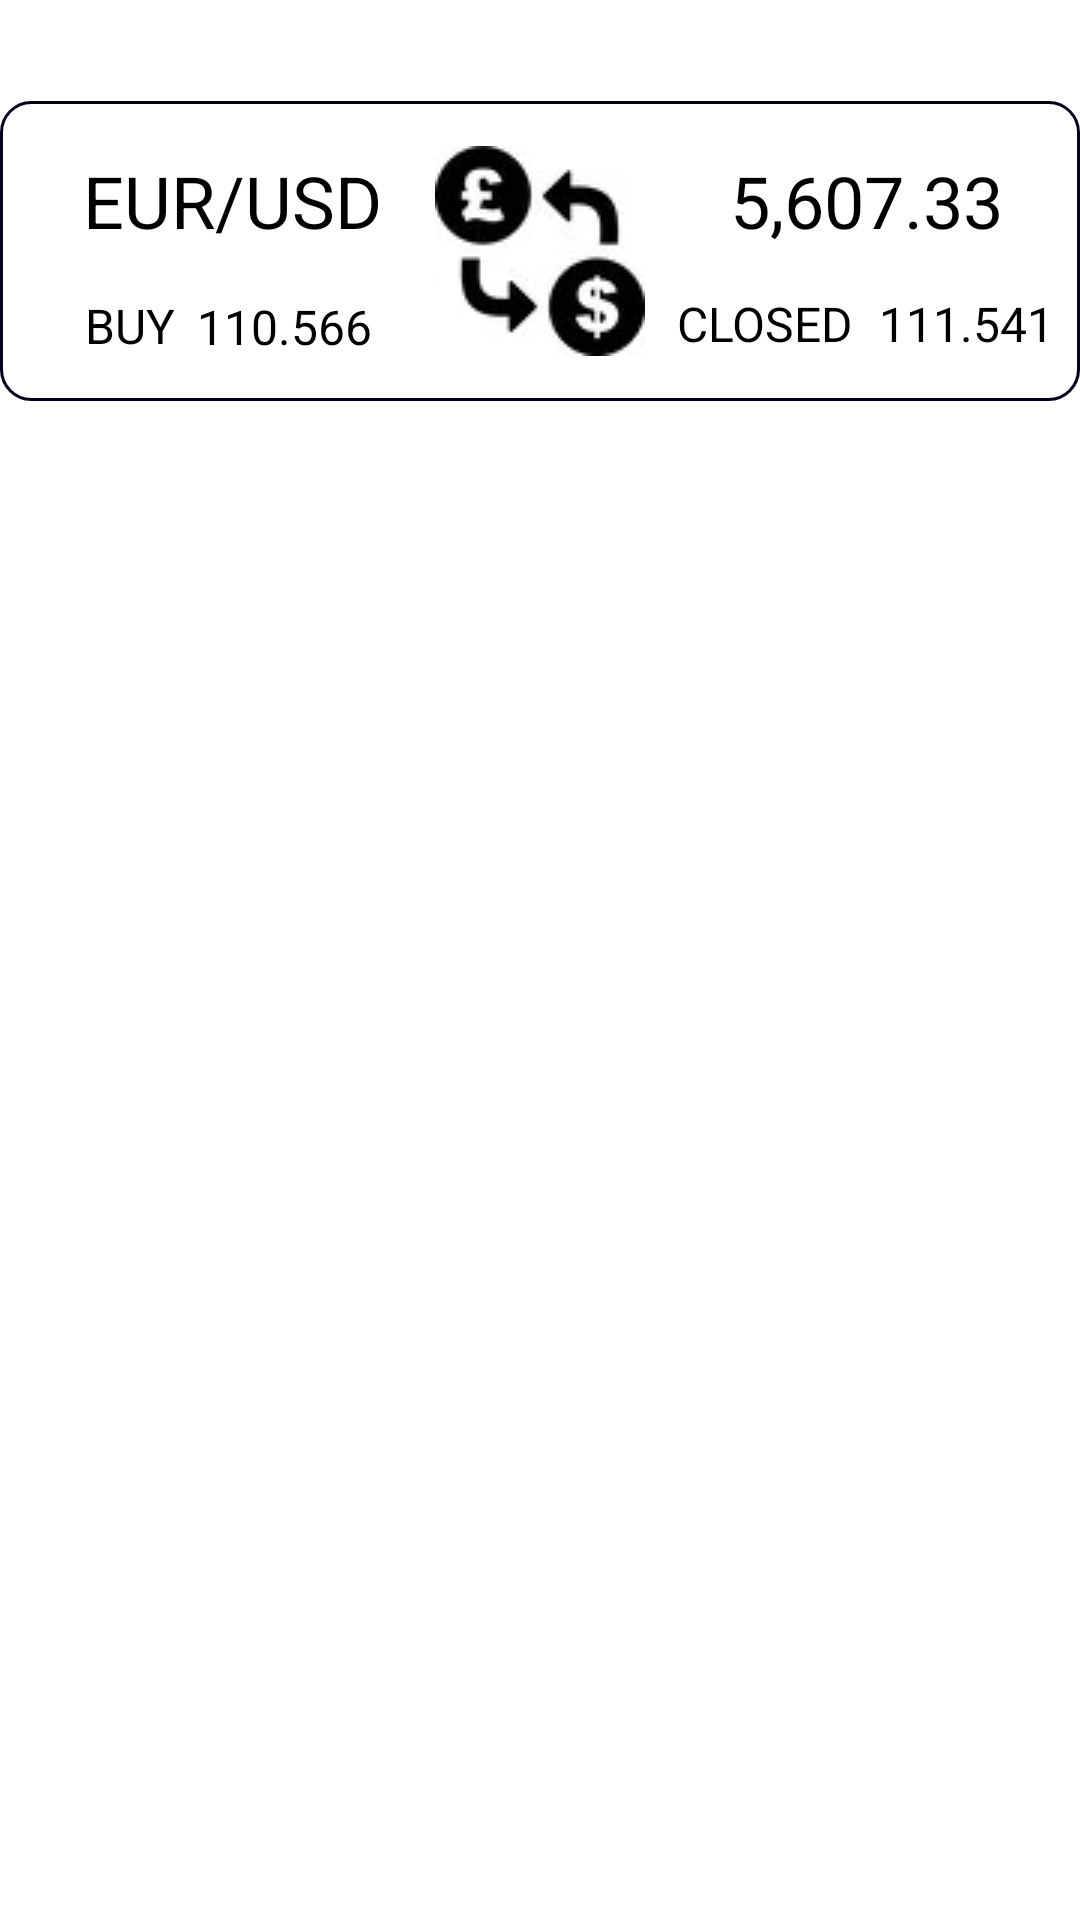

Where to tap for icons on this 1080×1920 app screen, as [x,y]:
pound to dollar: [540,251]
